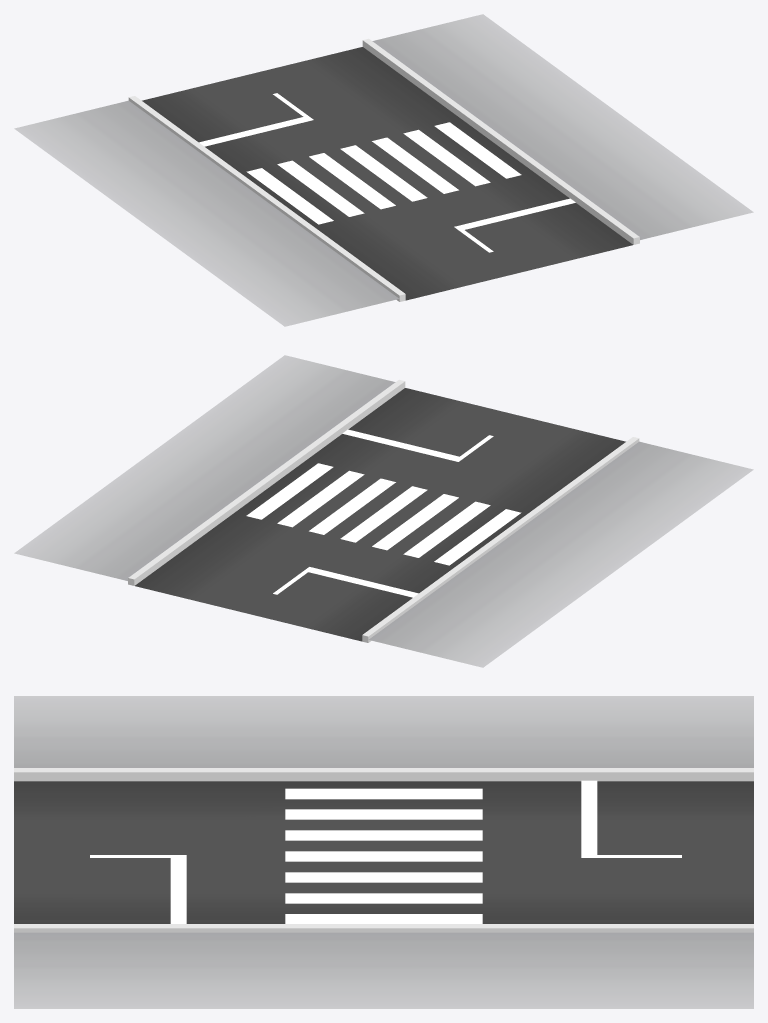
Rendered from city2-road-010.glb.
3 renders of one model, top to bottom at view 1: azimuth 30°, elevation 25°; view 2: azimuth 150°, elevation 25°; view 3: azimuth 270°, elevation 25°, orthographic. The views are drawn at different scales.
Visible parts, largest first — view 1: road_010; view 2: road_010; view 3: road_010.
Part boxes in pixels (x1,y1,x2,y2): road_010: (14,14,753,326); road_010: (14,355,753,667); road_010: (14,696,753,1008).
Bounding box in the file's own units: 15 × 0.2 × 15.
Materials: 1 (1 with a texture image).
